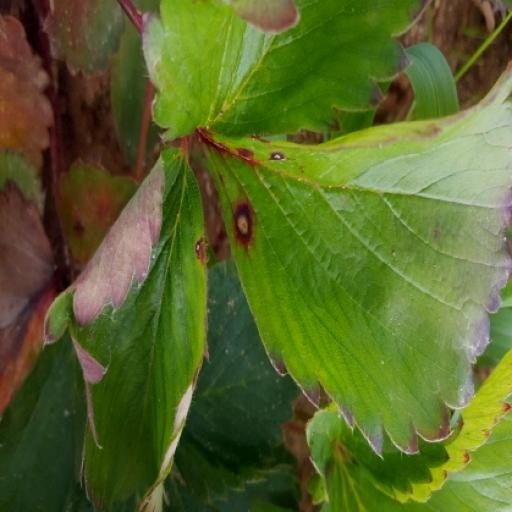Leaf Spot: (186, 53, 511, 448), (40, 0, 211, 370)
